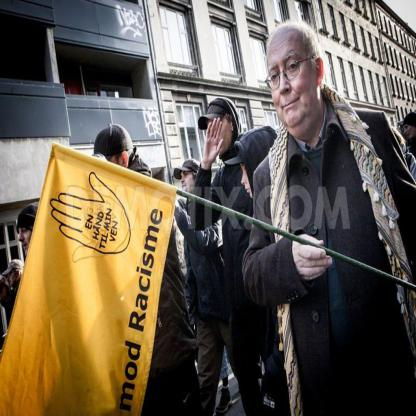face: (268, 29, 316, 125), (239, 152, 267, 200), (96, 157, 123, 199), (208, 113, 231, 155), (18, 227, 34, 256), (181, 171, 195, 195), (1, 281, 13, 302), (9, 269, 19, 288), (404, 124, 415, 140)
